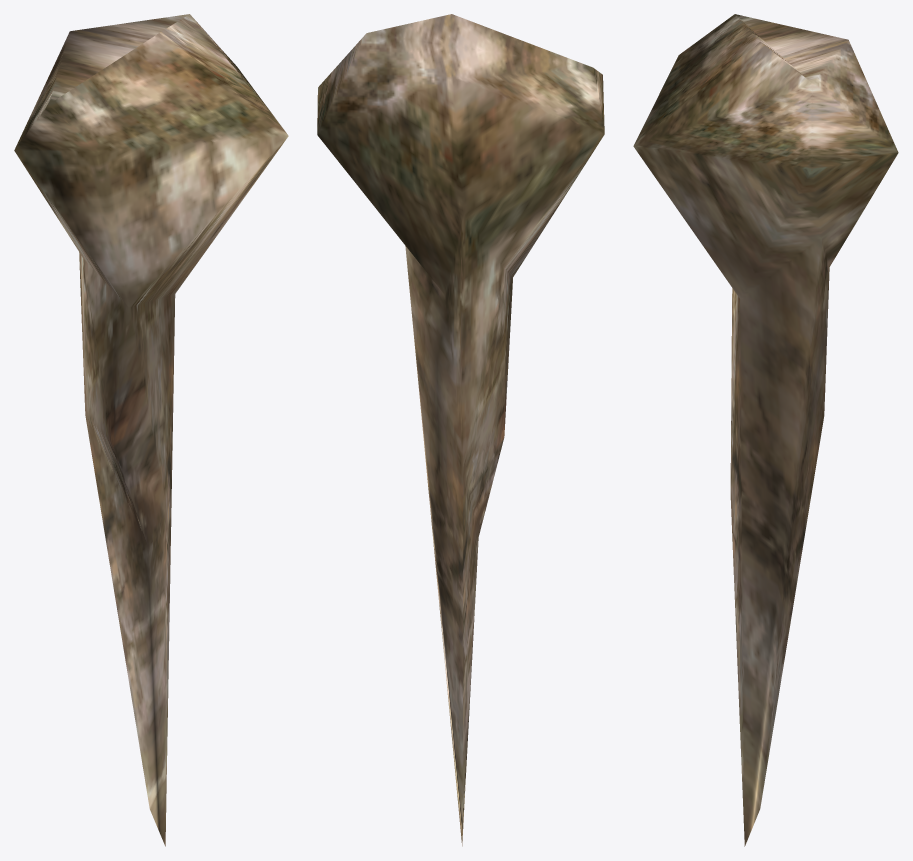
Rendered from thm_all_cave_stalagtite_b2_l1.fbx.
3 views of the same model, side by side, from view 1: azimuth 30°, elevation 25°; view 2: azimuth 150°, elevation 25°; view 3: azimuth 270°, elevation 25° (orthographic). The views are drawn at different scales.
Parts seen in each view (by area): view 1: mesh_node; view 2: mesh_node; view 3: mesh_node.
Boxes of the visible parts, left/top/right/bottom form: mesh_node: left=14, top=14, right=288, bottom=846; mesh_node: left=317, top=14, right=604, bottom=846; mesh_node: left=633, top=14, right=898, bottom=846.
Size of the model in its own units: 1.23 by 3.81 by 1.14.
